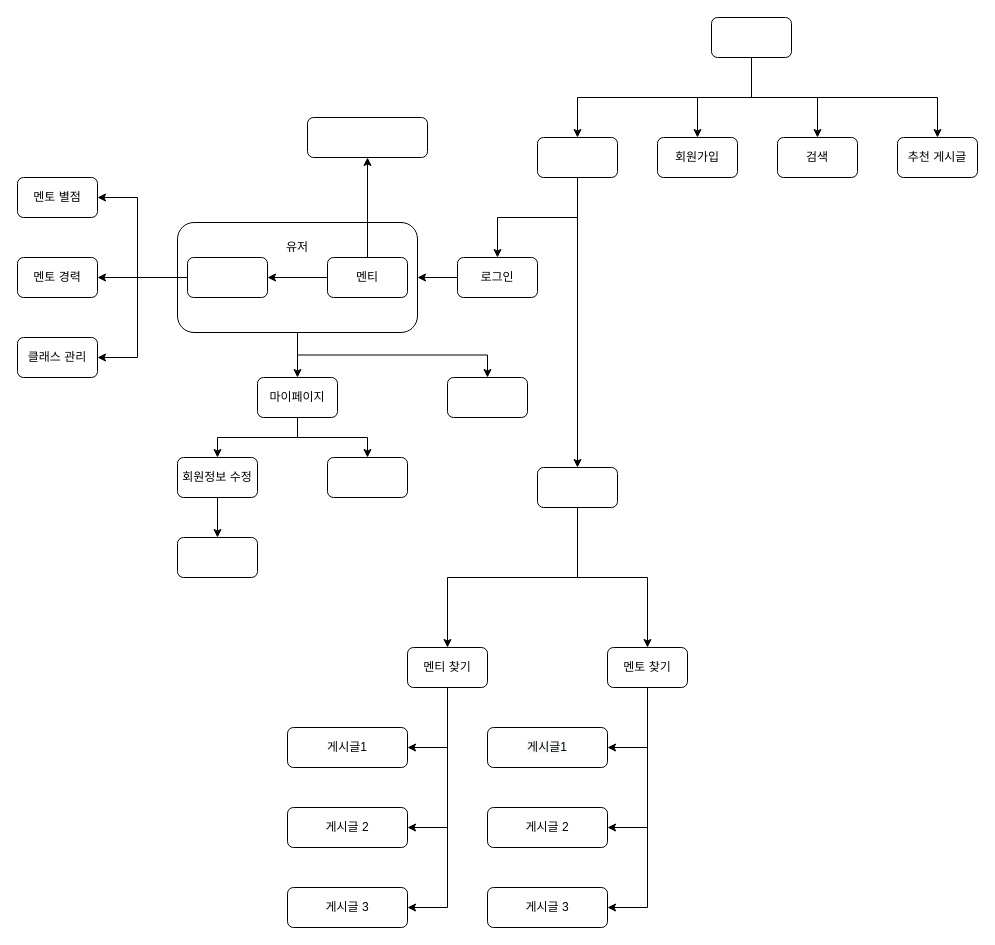
The diagram is 995 pixels wide and 945 high, and some of its shapes have lost their labels. The shapes that lost their labels are listed below. From the top down, each one's box as (x1, y1, x2, y2) in pixels, then its label:
(710, 16, 792, 58): 메인
(306, 116, 428, 158): 등록한 클래스 정보
(536, 136, 618, 178): 사이드바
(186, 256, 268, 298): 멘토
(446, 376, 528, 418): 로그아웃
(326, 456, 408, 498): 멘티별점
(536, 466, 618, 508): 카테고리
(176, 536, 258, 578): 회원 탈퇴
